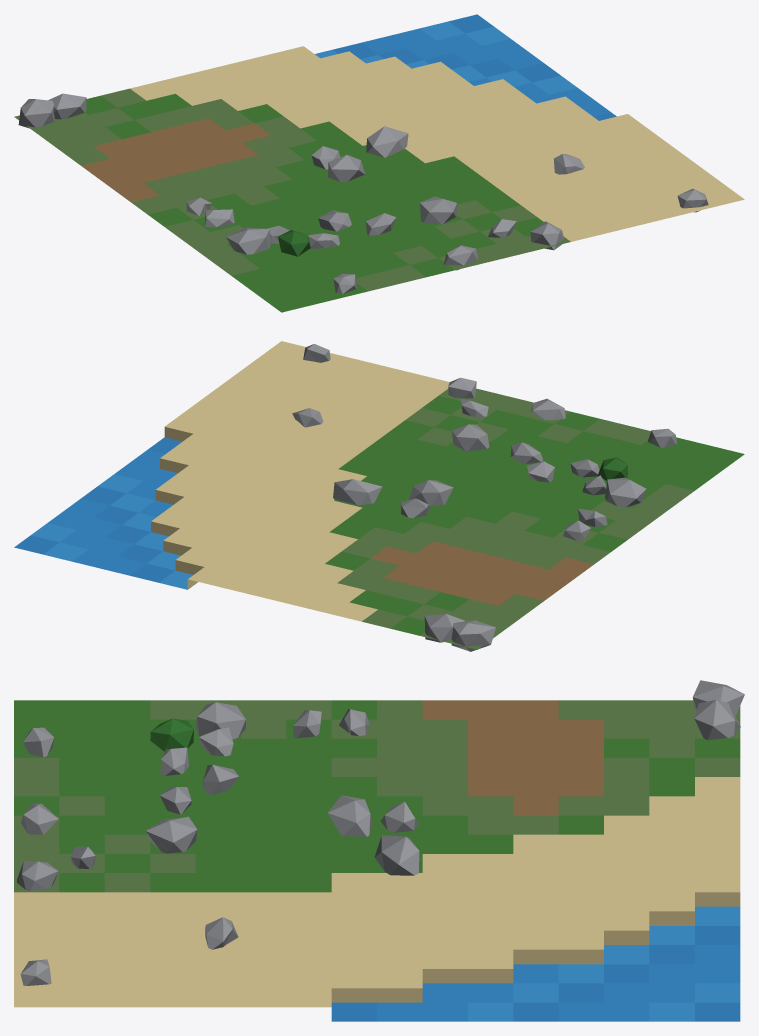
The model's file is chunk_11_15.glb.
3 renders of one model, top to bottom at view 1: azimuth 30°, elevation 25°; view 2: azimuth 150°, elevation 25°; view 3: azimuth 270°, elevation 25°, orthographic. The views are drawn at different scales.
Parts seen in each view (by area): view 1: chunk_11_15; view 2: chunk_11_15; view 3: chunk_11_15.
Part boxes in pixels (box(x1,y1,x2,y2)): chunk_11_15: box(14, 14, 744, 312); chunk_11_15: box(14, 341, 744, 651); chunk_11_15: box(14, 680, 744, 1021).
Size of the model in its own units: 16.15 by 1.15 by 16.1.
